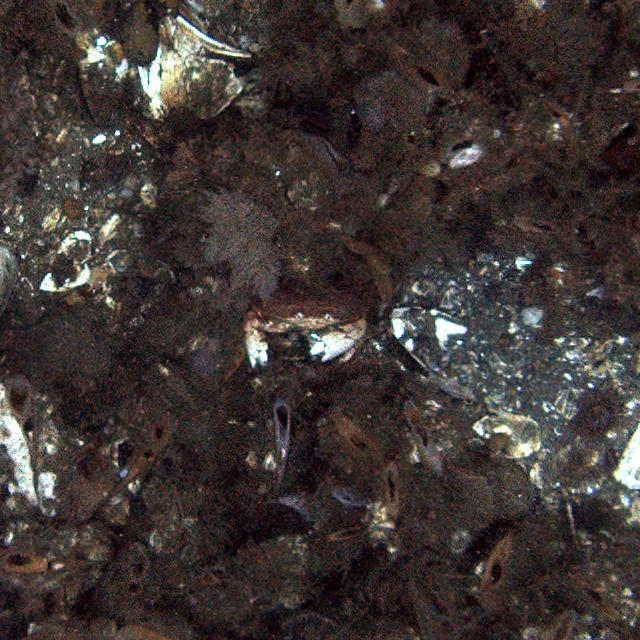crab: (240, 283, 374, 368)
